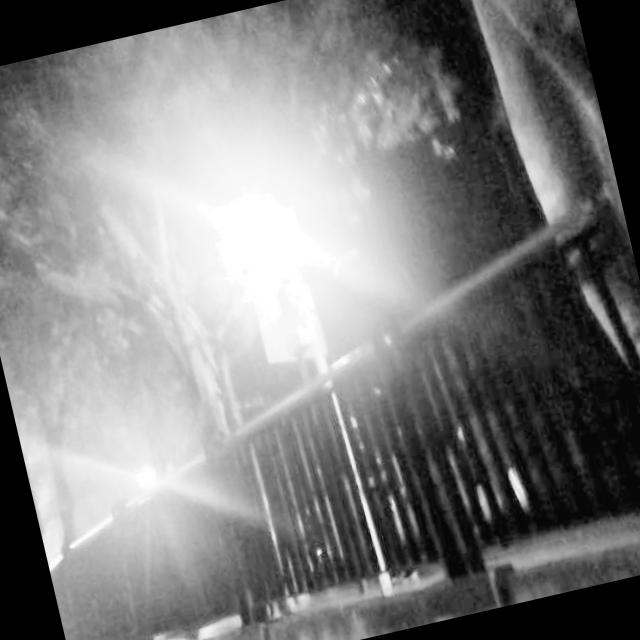Light: (231, 188, 381, 599), (124, 451, 166, 501)
Tree: (84, 138, 314, 636), (442, 0, 640, 500)
